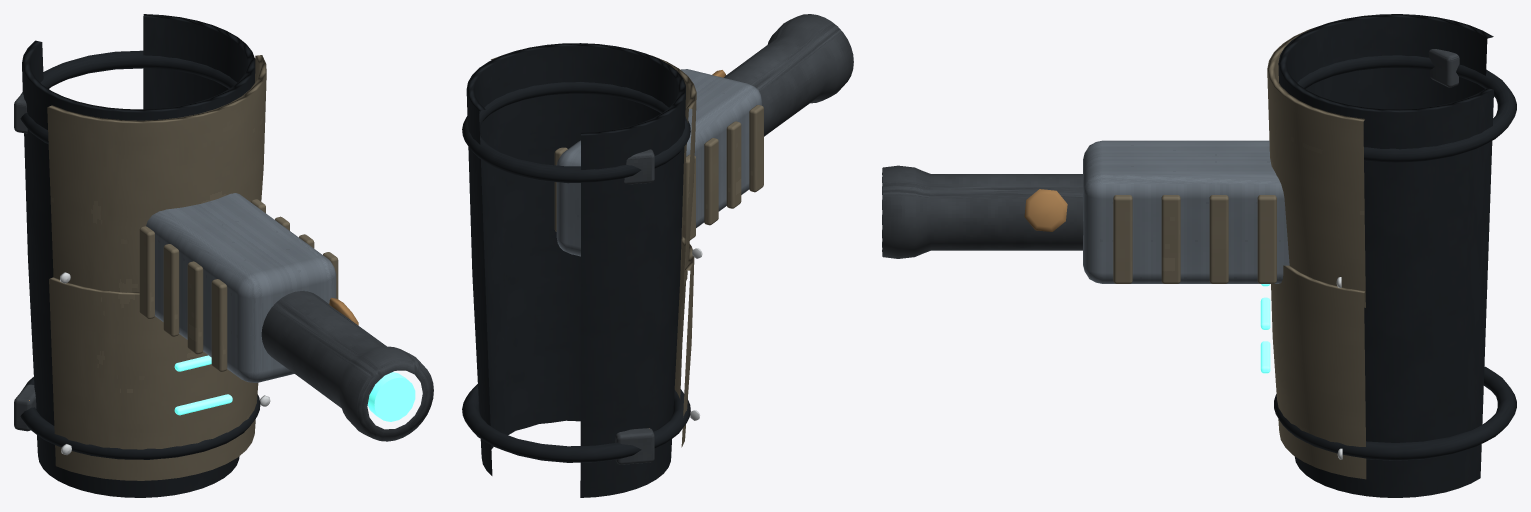
File: wrist-emitter.lod1.glb
3 renders of one model, left to right at view 1: azimuth 30°, elevation 25°; view 2: azimuth 150°, elevation 25°; view 3: azimuth 270°, elevation 25°, orthographic. The views are drawn at different scales.
Visible parts, largest first — view 1: ceramic / ceramic composite panel, polymer / stippled polymer, alloy / machined anodized alloy, darksteel / oil-blackened fittings, energy / emissive field channel; view 2: polymer / stippled polymer, darksteel / oil-blackened fittings, ceramic / ceramic composite panel, alloy / machined anodized alloy; view 3: polymer / stippled polymer, ceramic / ceramic composite panel, alloy / machined anodized alloy, darksteel / oil-blackened fittings, peened pin, energy / emissive field channel.
Part boxes in pixels (left/top/right/bottom): ceramic / ceramic composite panel: left=47, top=55, right=338, bottom=480; polymer / stippled polymer: left=20, top=14, right=260, bottom=497; alloy / machined anodized alloy: left=146, top=193, right=336, bottom=382; darksteel / oil-blackened fittings: left=14, top=92, right=433, bottom=441; energy / emissive field channel: left=174, top=355, right=415, bottom=421; polymer / stippled polymer: left=462, top=43, right=690, bottom=497; darksteel / oil-blackened fittings: left=615, top=14, right=853, bottom=464; ceramic / ceramic composite panel: left=491, top=55, right=763, bottom=447; alloy / machined anodized alloy: left=556, top=69, right=761, bottom=256; polymer / stippled polymer: left=1274, top=14, right=1516, bottom=497; ceramic / ceramic composite panel: left=1113, top=28, right=1366, bottom=479; alloy / machined anodized alloy: left=1083, top=140, right=1289, bottom=283; darksteel / oil-blackened fittings: left=882, top=49, right=1459, bottom=258; peened pin: left=1024, top=189, right=1067, bottom=231; energy / emissive field channel: left=1260, top=284, right=1270, bottom=373.
Size of the model in its own units: 0.155 by 0.2701 by 0.3963.
Materials: 7 (5 with a texture image).
